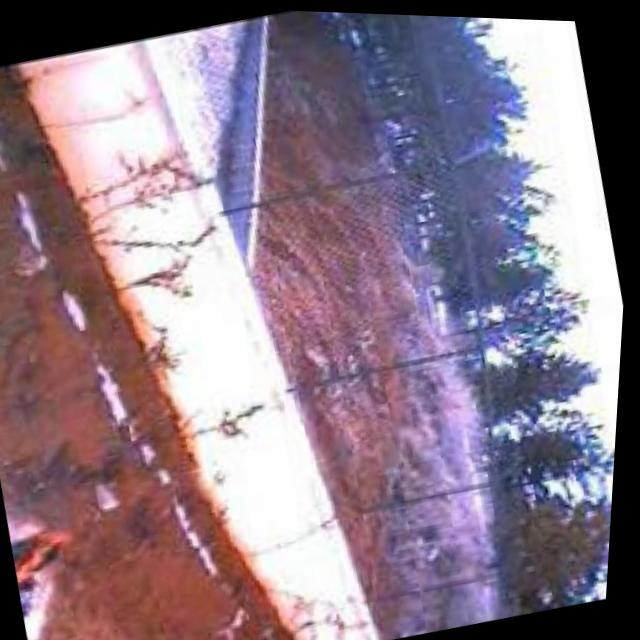fire: (10, 512, 104, 612)
